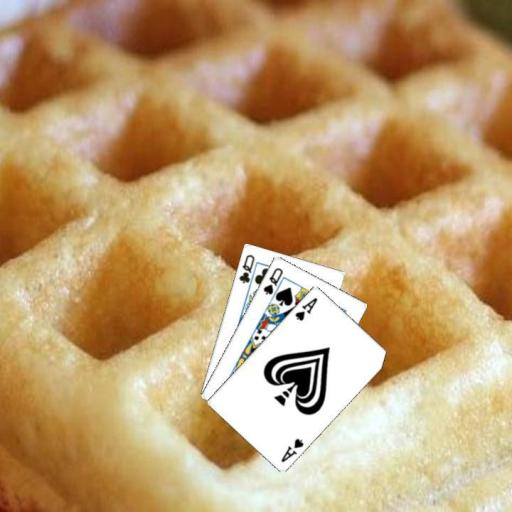AS: (277, 435, 305, 464), (292, 294, 319, 322)
QC: (235, 251, 256, 284)
QS: (261, 264, 285, 296)
